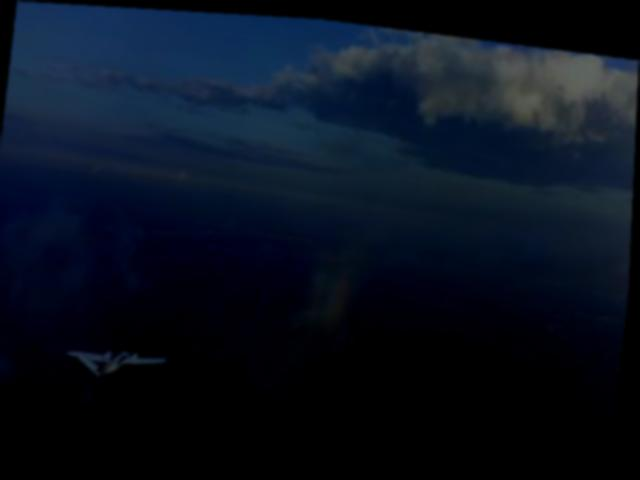uav: (68, 332, 175, 380)
